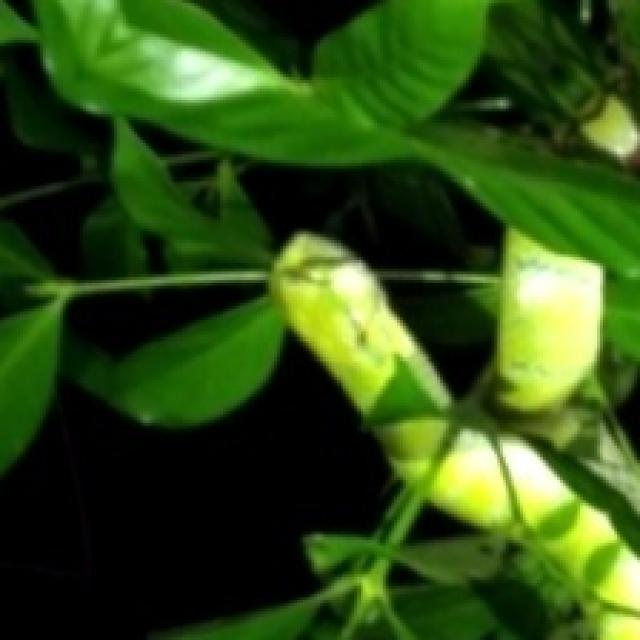north ph temple pitviper: (271, 231, 637, 637)
